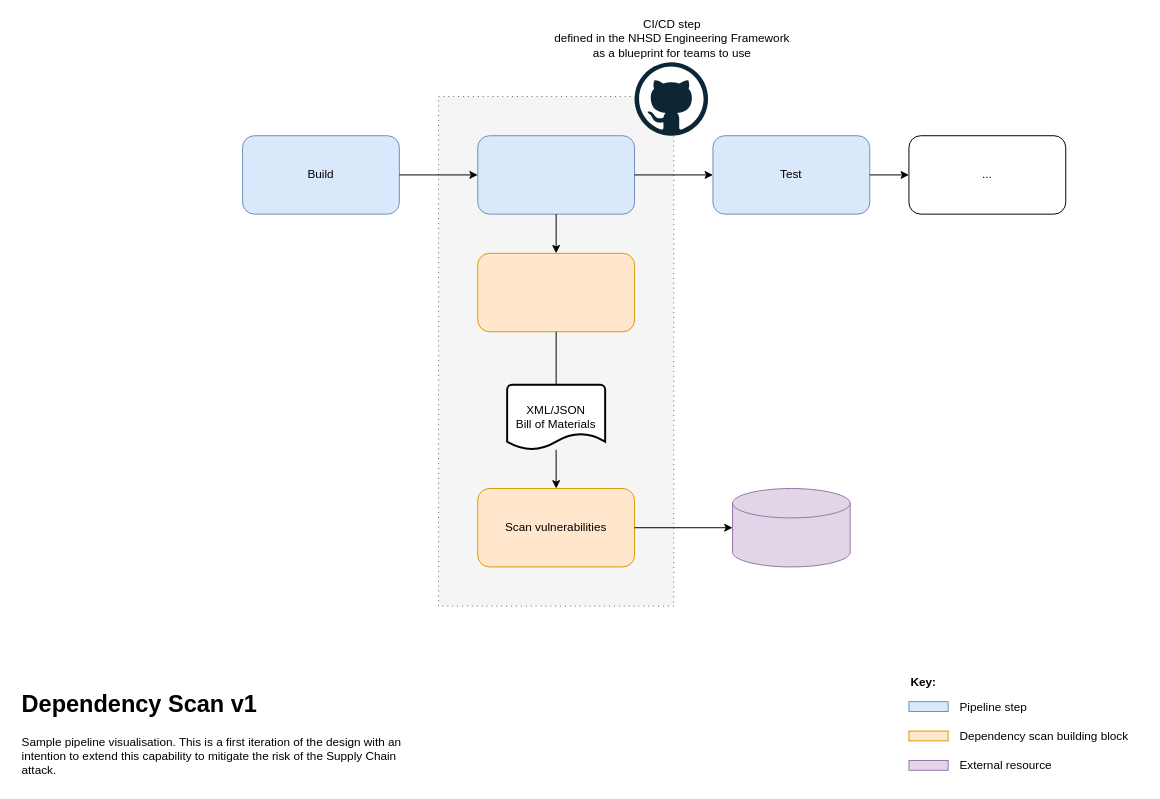
The diagram is 1160 pixels wide and 799 high, and some of its shapes have lost their labels. Each missing label, with the box of its shape:
Dependency scan: (477, 135, 635, 214)
Generate SBOM: (477, 252, 635, 332)
GHSA & CVE database: (732, 488, 850, 567)
